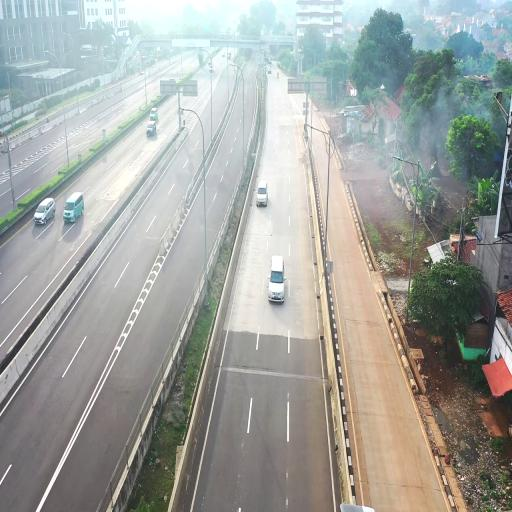vehicle: (34, 198, 55, 228), (256, 182, 269, 208), (146, 118, 158, 140)
